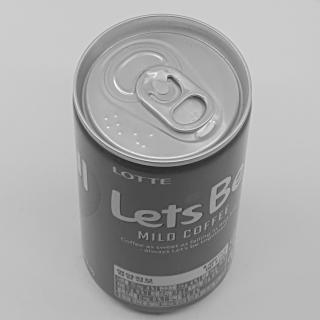alumunium_can: (66, 1, 260, 320)
